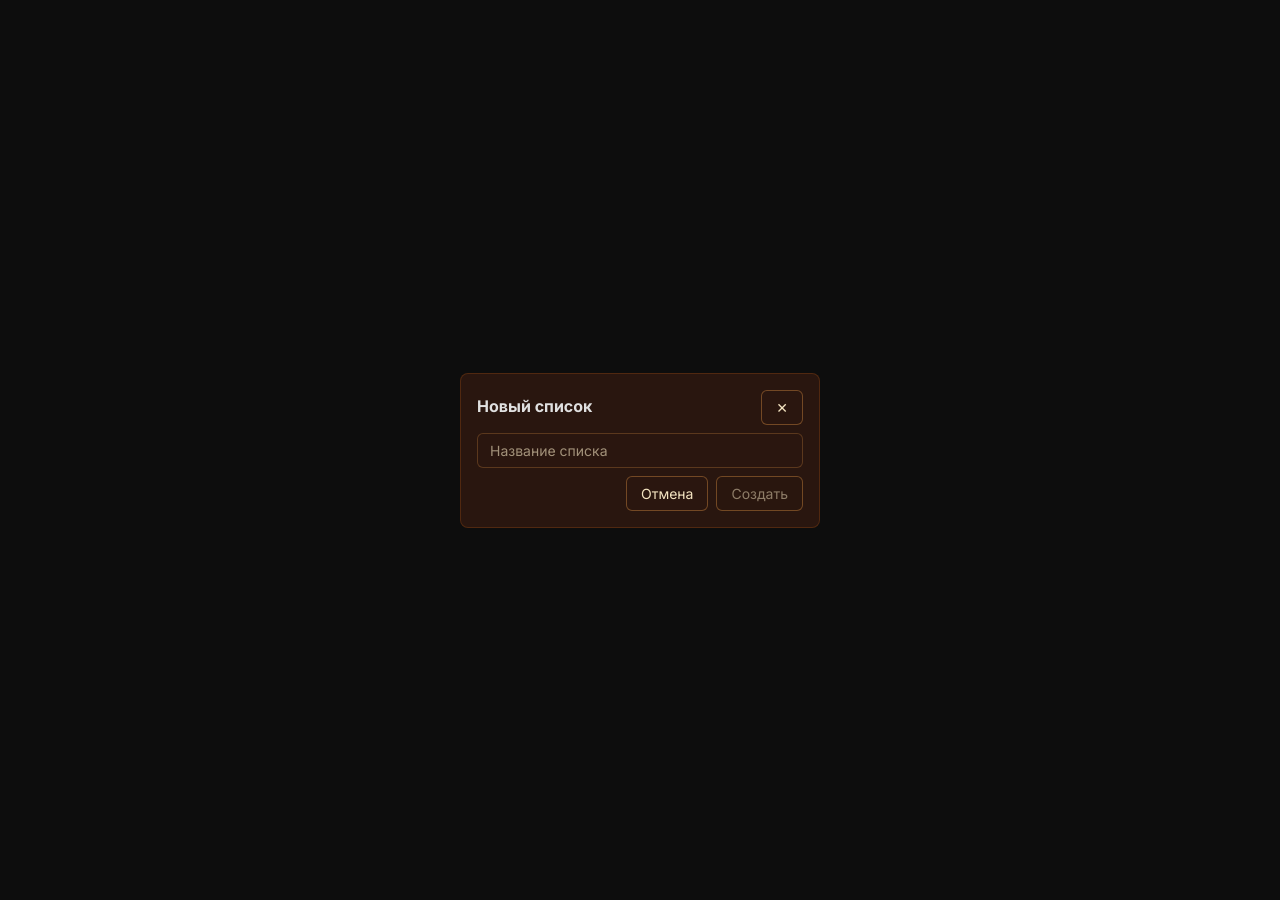
Test: CreateListModal › should clear error when user starts typing
Type "My List" into the field with placeholder "Название списка" at point(640, 450), box [477,432,803,468]
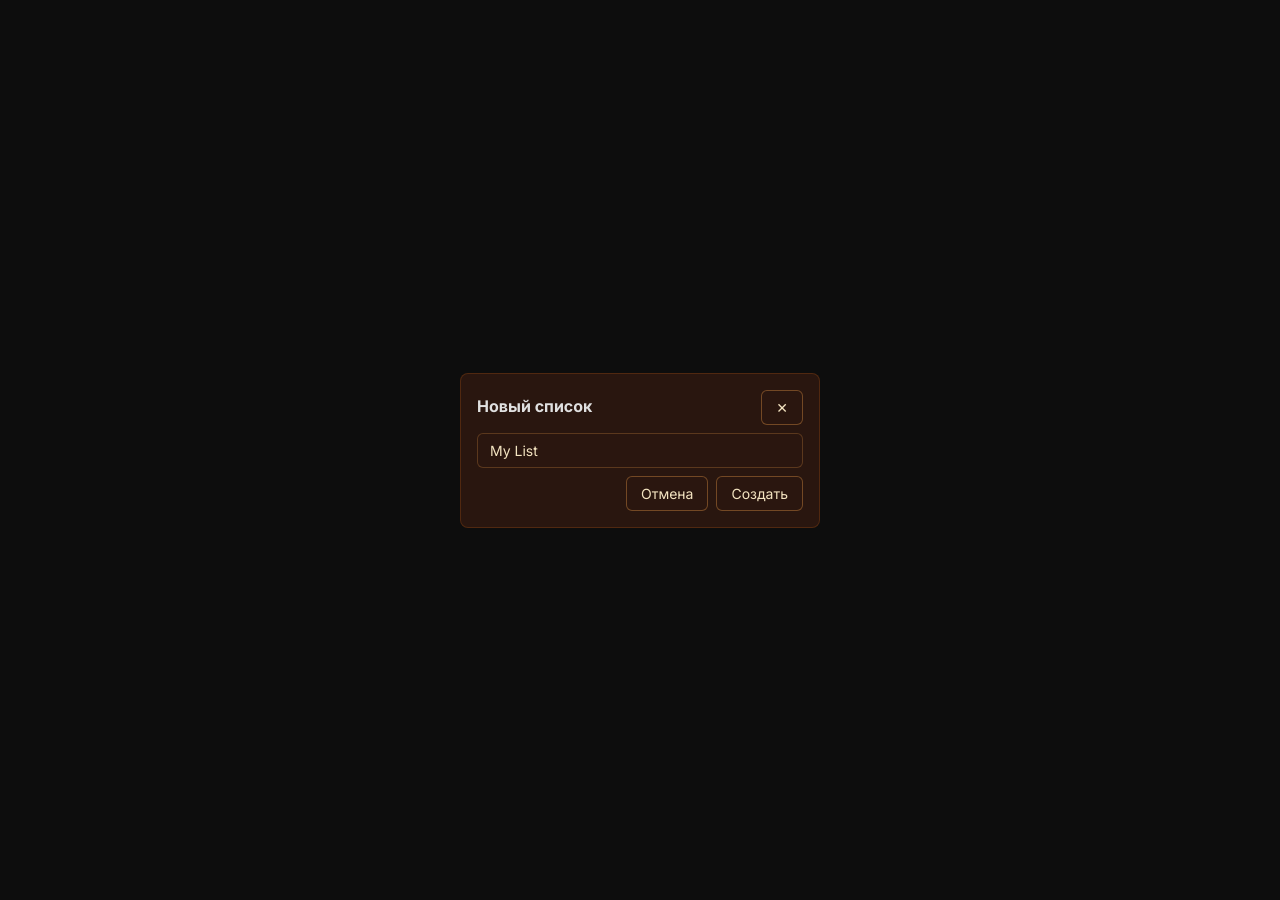
Click the button "Создать" at point(760, 493), box [716,476,803,510]
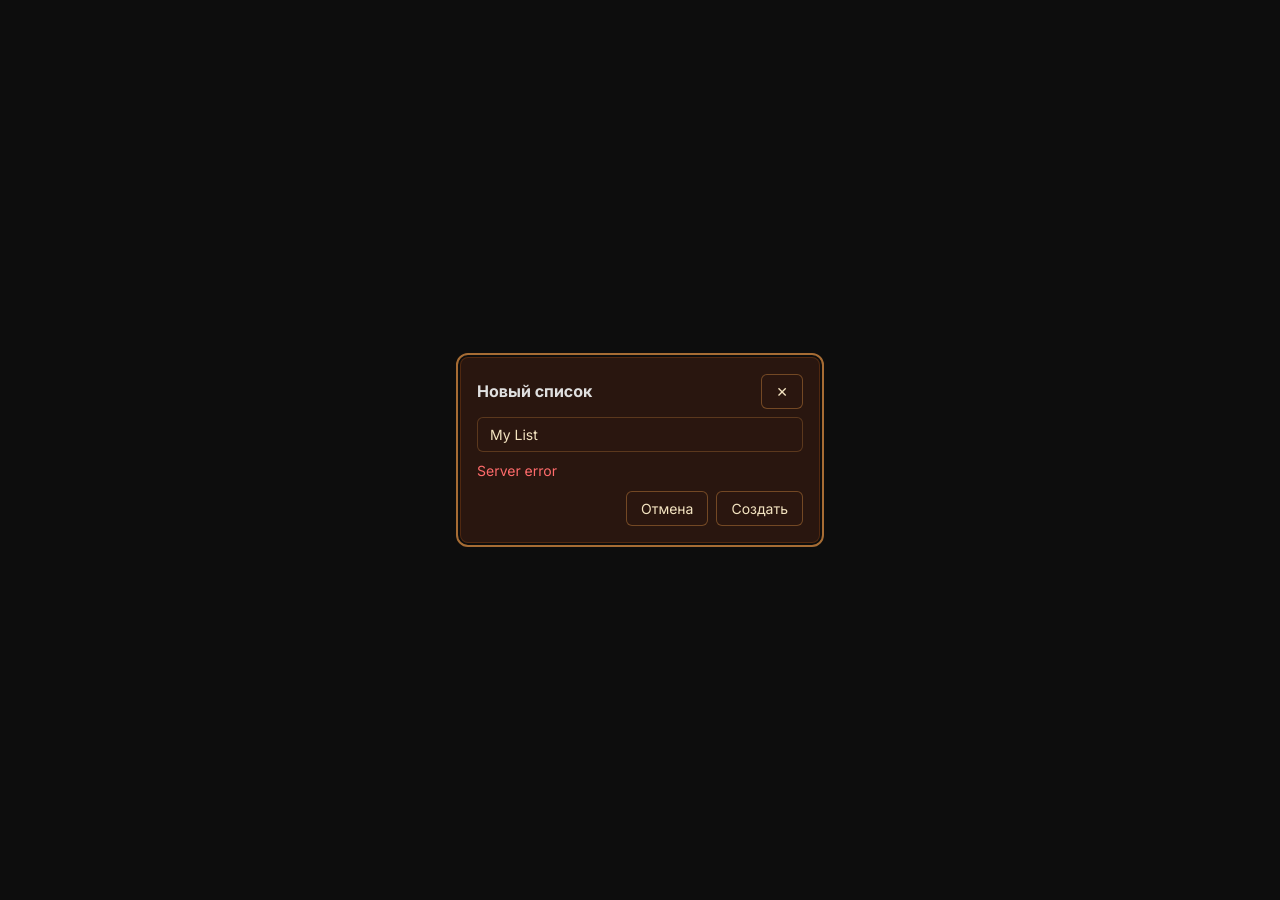
Expected: the text "Server error" is shown, [477,462,557,479]
Start typing again
Replace the text in the field with placeholder "Название списка" with "My New List" at point(640, 435), box [477,417,803,452]
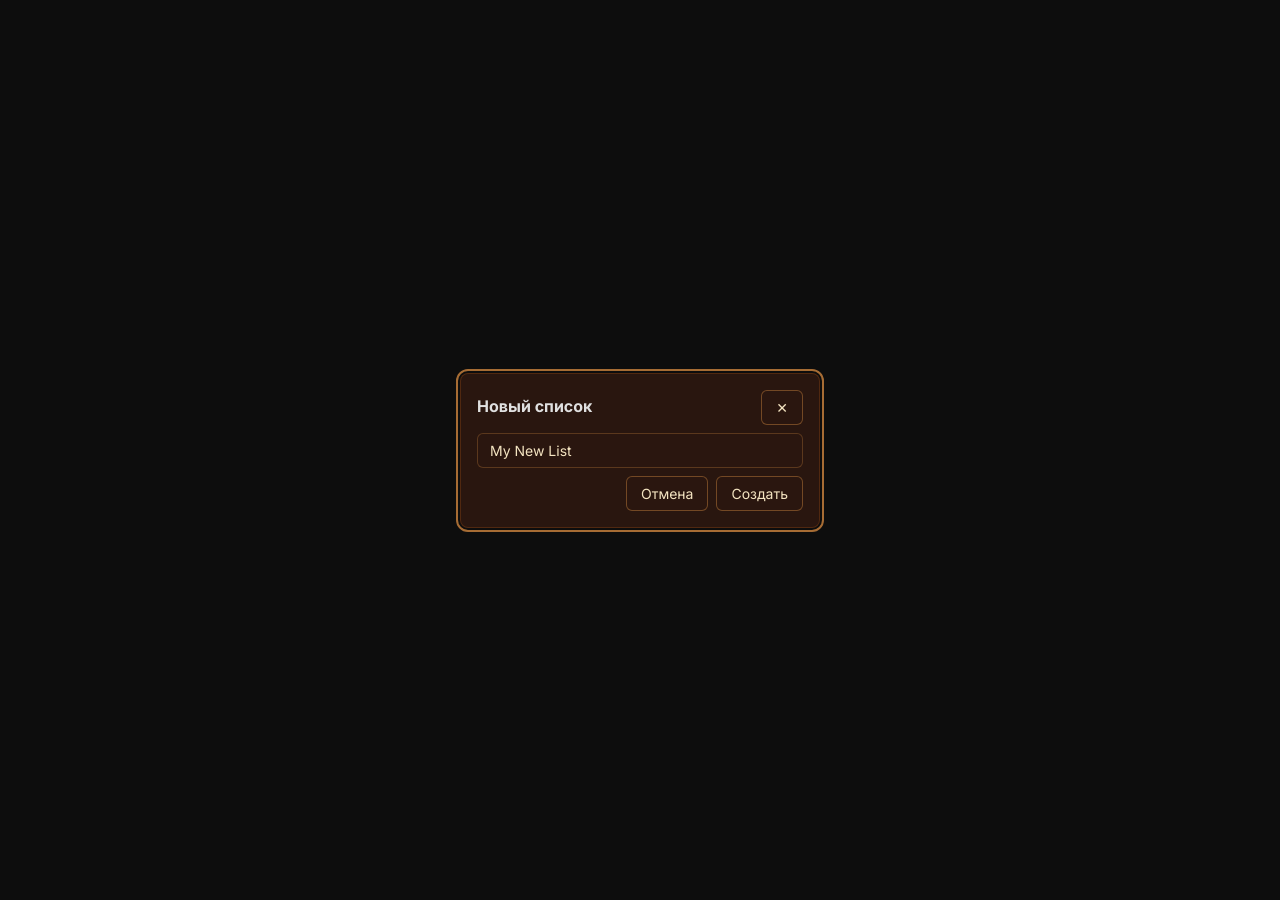
Expected: the text "Server error" is gone
